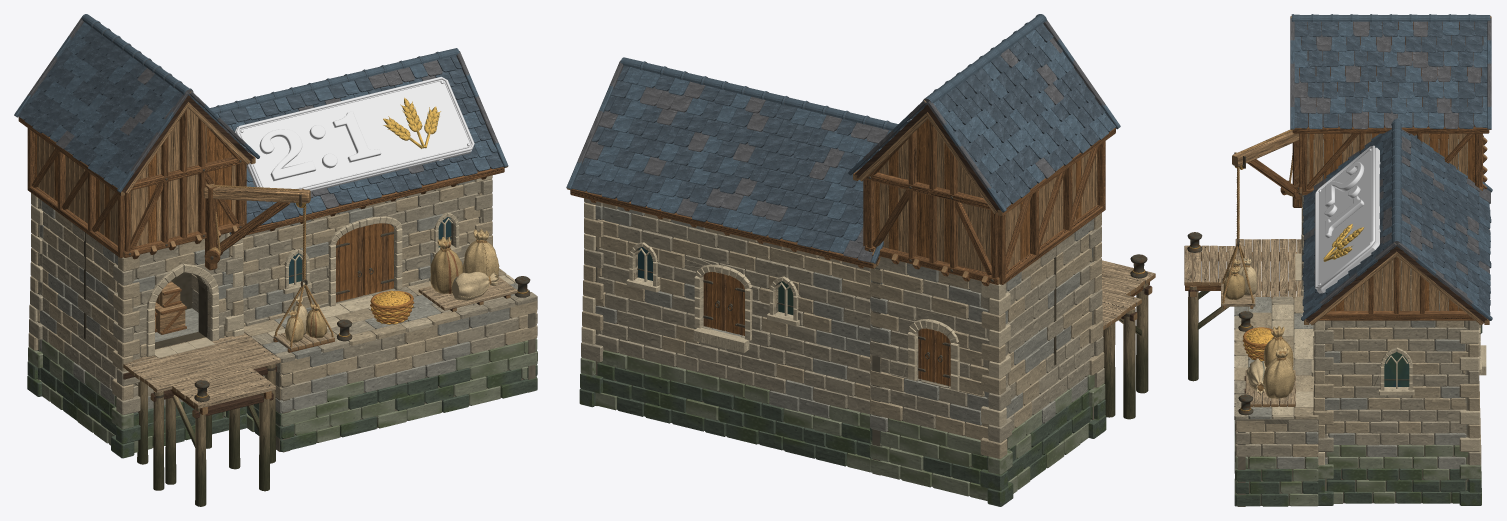
The model's file is grain-harbor.fbx.
3 views of the same model, side by side, from view 1: azimuth 30°, elevation 25°; view 2: azimuth 150°, elevation 25°; view 3: azimuth 270°, elevation 25° (orthographic). The views are drawn at different scales.
Visible parts, largest first — view 1: HarborHouse, PierDeck, TradePlaque, Hoist, GrainCargo; view 2: HarborHouse, PierDeck; view 3: HarborHouse, PierDeck, TradePlaque, Hoist, GrainCargo.
Part boxes in pixels (<box>): HarborHouse: <box>14,14,508,458</box>; PierDeck: <box>123,268,537,506</box>; TradePlaque: <box>234,76,474,202</box>; Hoist: <box>203,183,334,352</box>; GrainCargo: <box>370,229,517,324</box>; HarborHouse: <box>566,14,1120,506</box>; PierDeck: <box>1101,254,1155,419</box>; HarborHouse: <box>1290,14,1492,505</box>; PierDeck: <box>1184,232,1318,506</box>; TradePlaque: <box>1315,145,1380,293</box>; Hoist: <box>1221,129,1301,308</box>; GrainCargo: <box>1242,326,1295,406</box>.
Size of the model in its own units: 0.0233 by 0.0207 by 0.0164.
